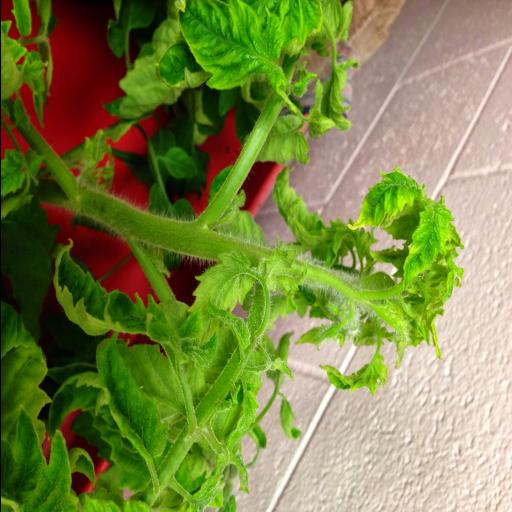Yellow Leaf Curl Virus: (175, 1, 293, 101), (95, 342, 170, 458), (345, 164, 422, 242), (392, 206, 460, 288), (188, 254, 262, 316)
